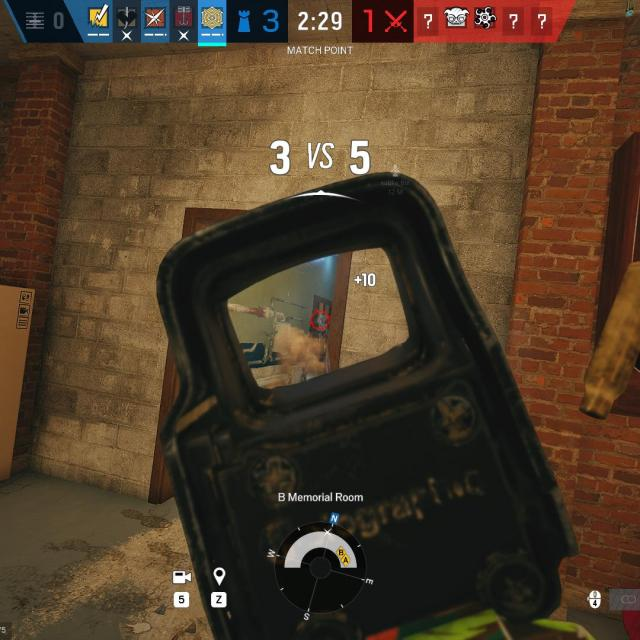Character: (318, 314, 330, 344)
